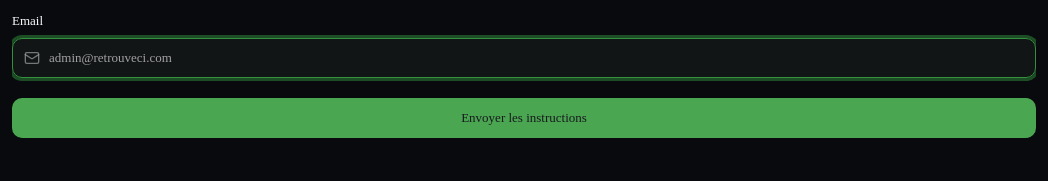
Scenario: ForgotPasswordForm › rejects an invalid email before reaching the action
Type "pas-un-email" into the field labelled "Email". click: [524, 58]
box: [12,38,1036,78]
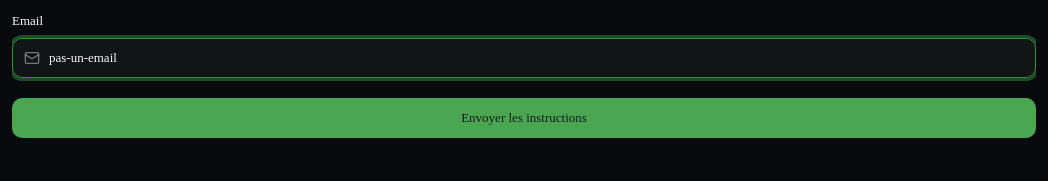
Click the button "Envoyer les instructions". click: [524, 118]
box: [12,98,1036,138]
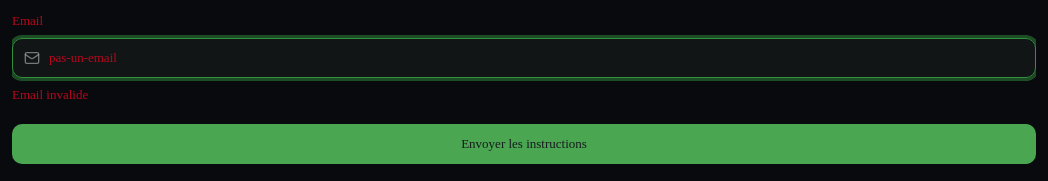
Expected: the text "Email invalide" is shown, [12,87,88,102]
